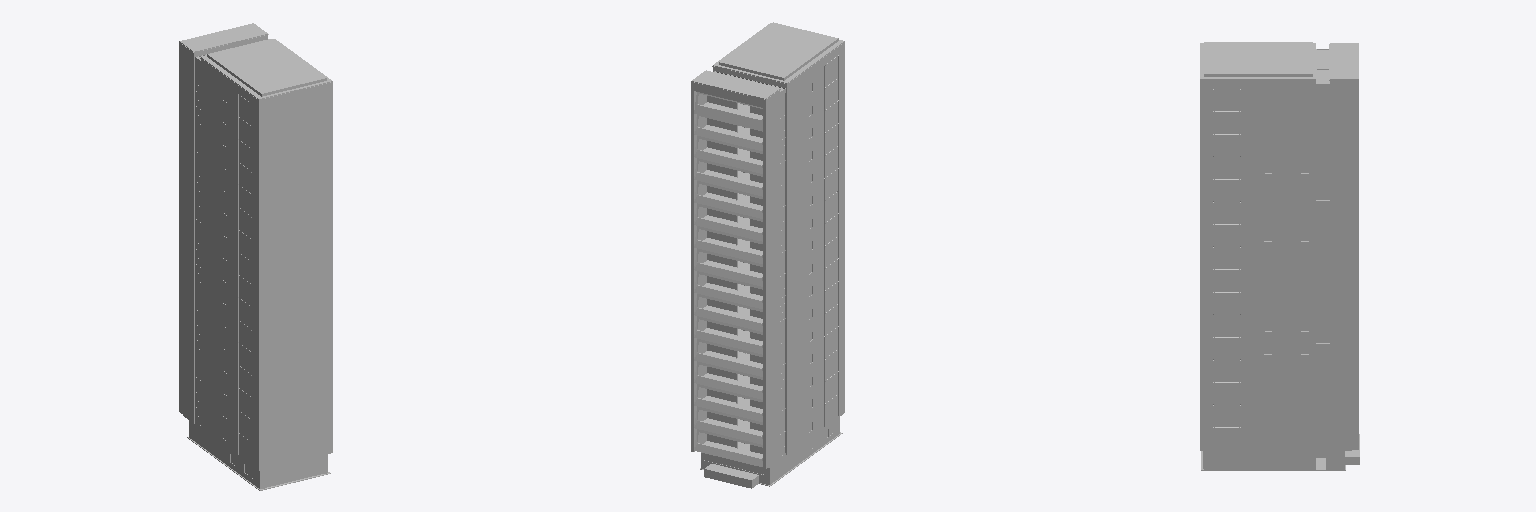
The model's file is Building_2.obj.
3 renders of one model, left to right at view 1: azimuth 30°, elevation 25°; view 2: azimuth 150°, elevation 25°; view 3: azimuth 270°, elevation 25°, orthographic.
Parts seen in each view (by area): view 1: Residential_Buildings_007; view 2: Residential_Buildings_007; view 3: Residential_Buildings_007.
Boxes of the visible parts, <box> form: Residential_Buildings_007: <box>179,23,332,490</box>; Residential_Buildings_007: <box>691,22,844,488</box>; Residential_Buildings_007: <box>1200,42,1359,470</box>.
Bounding box in the file's own units: 12.59 × 63.08 × 23.1.